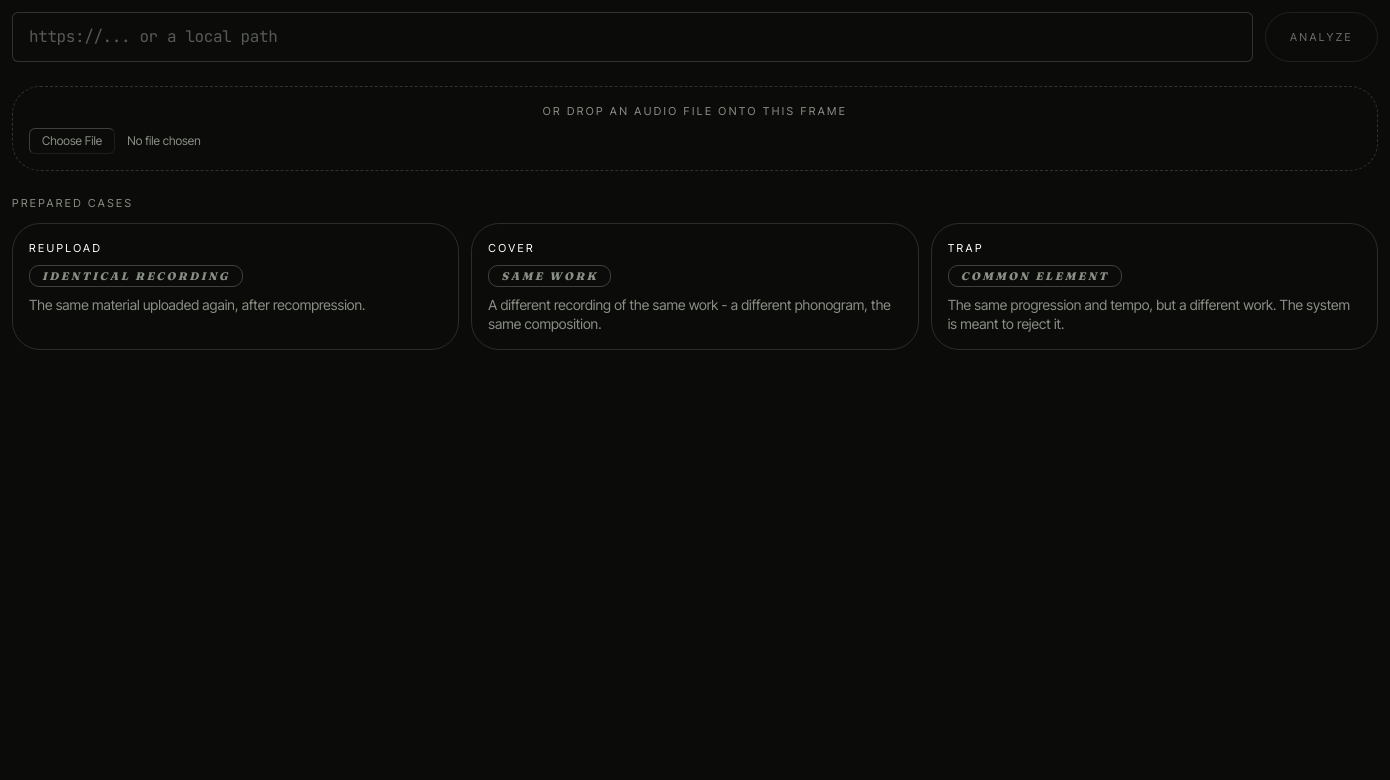
Test: E1 input › the waveform appears after pasting an address, before the analysis
Type "https://example.com/audio/query.wav" into the field named "recording address".
click(632, 37); type("https://example.com/audio/query.wav")  # box 12,12 -> 1253,62
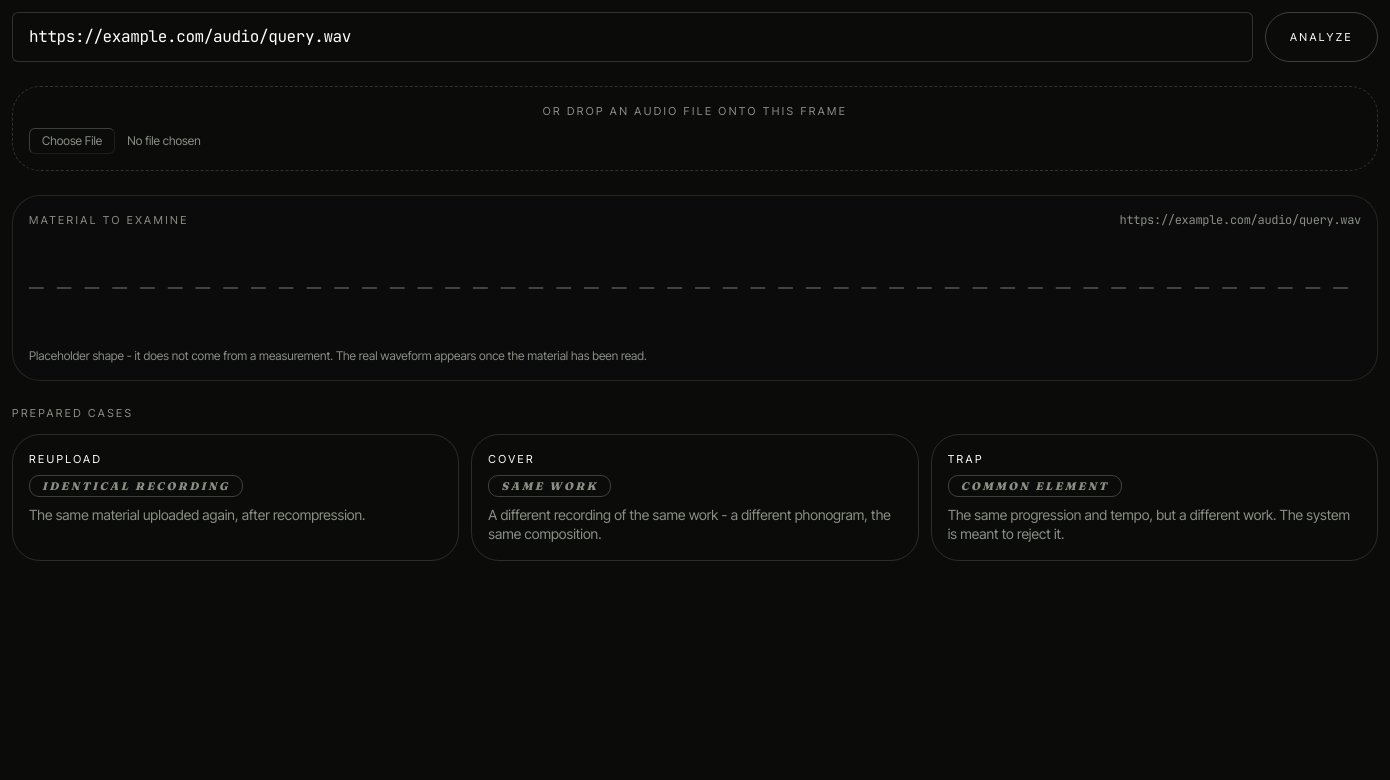
Result: the element that starts with "Material to examine" is shown at 12,194 -> 1378,381
